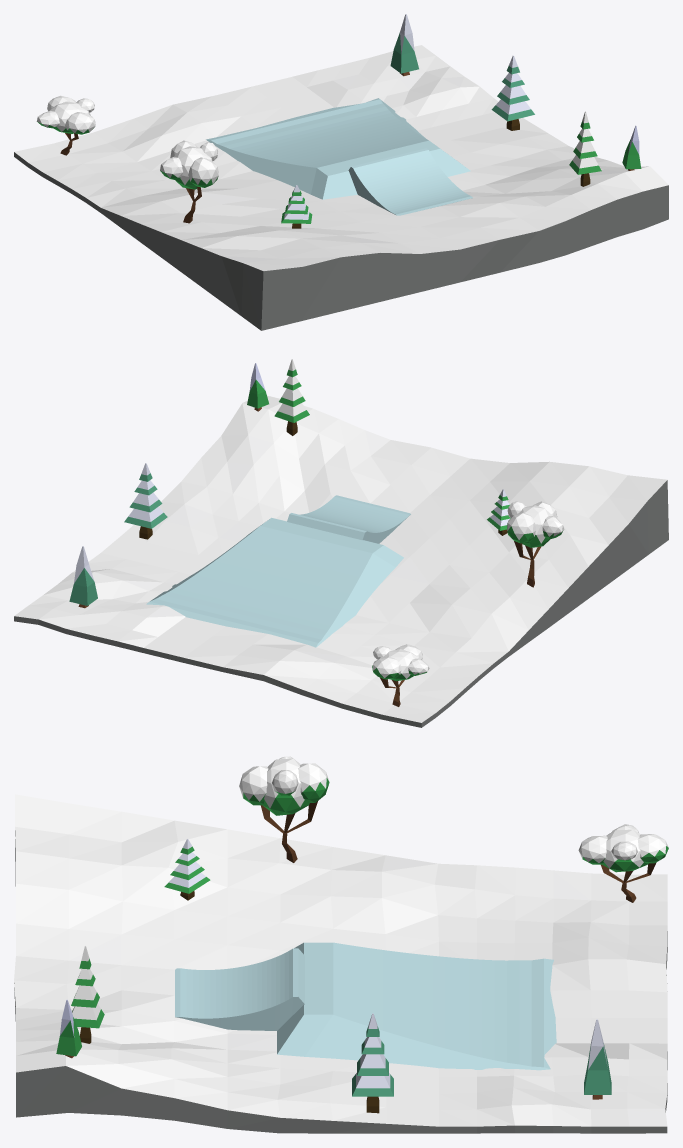
File: kicker6M.glb
3 renders of one model, top to bottom at view 1: azimuth 30°, elevation 25°; view 2: azimuth 150°, elevation 25°; view 3: azimuth 270°, elevation 25°, orthographic. The views are drawn at different scales.
Parts seen in each view (by area): view 1: snow, Cube.006, Cube.005, tree, tree.001, Cube.001, Cube.003, Cube, Cube.002, Cube.004; view 2: snow, Cube.006, Cube.005, tree, tree.001, Cube.001, Cube.003, Cube, Cube.004, Cube.002; view 3: snow, Cube.006, Cube.005, tree, tree.001, Cube.001, Cube.003, Cube, Cube.002, Cube.004.
Part boxes in pixels (bbox=[...]): snow: bbox=[14, 45, 668, 330]; Cube.006: bbox=[206, 98, 470, 199]; Cube.005: bbox=[348, 148, 472, 215]; tree: bbox=[160, 140, 218, 223]; tree.001: bbox=[36, 95, 95, 155]; Cube.001: bbox=[491, 55, 534, 130]; Cube.003: bbox=[569, 111, 601, 186]; Cube: bbox=[390, 14, 418, 76]; Cube.002: bbox=[281, 185, 312, 228]; Cube.004: bbox=[622, 125, 641, 170]; snow: bbox=[14, 395, 668, 727]; Cube.006: bbox=[146, 517, 403, 647]; Cube.005: bbox=[287, 495, 410, 543]; tree: bbox=[507, 501, 563, 587]; tree.001: bbox=[372, 644, 429, 706]; Cube.001: bbox=[124, 463, 167, 539]; Cube.003: bbox=[274, 359, 309, 435]; Cube: bbox=[69, 546, 97, 608]; Cube.004: bbox=[247, 363, 268, 411]; Cube.002: bbox=[487, 489, 510, 535]; snow: bbox=[14, 794, 667, 1133]; Cube.006: bbox=[277, 942, 556, 1070]; Cube.005: bbox=[175, 948, 304, 1030]; tree: bbox=[239, 756, 329, 862]; tree.001: bbox=[578, 824, 668, 902]; Cube.001: bbox=[352, 1013, 393, 1113]; Cube.003: bbox=[71, 945, 104, 1043]; Cube: bbox=[584, 1019, 611, 1099]; Cube.002: bbox=[164, 839, 210, 900]; Cube.004: bbox=[56, 999, 81, 1058].
Bounding box in the file's own units: 18.62 × 5.36 × 19.65.
